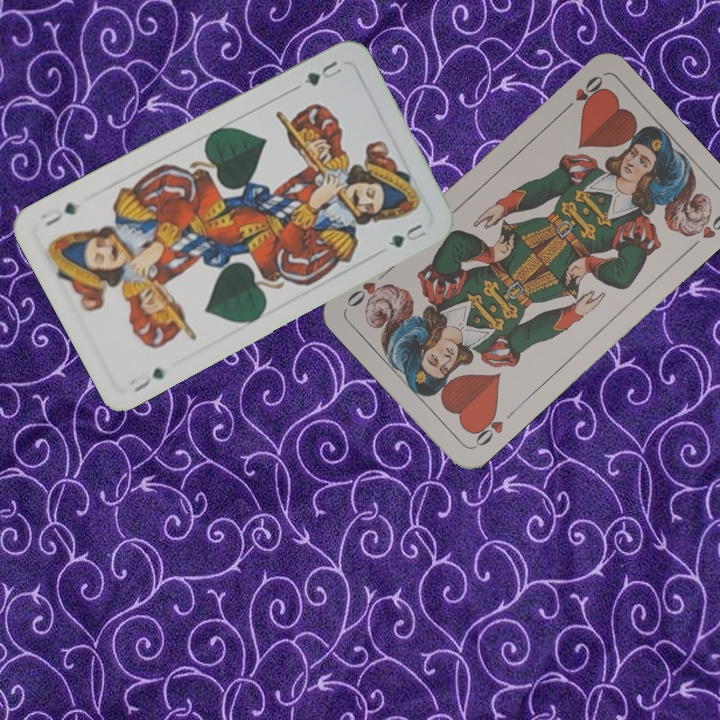GU: (300, 56, 345, 89), (125, 363, 167, 395)
HO: (468, 405, 518, 451), (557, 71, 606, 116)
